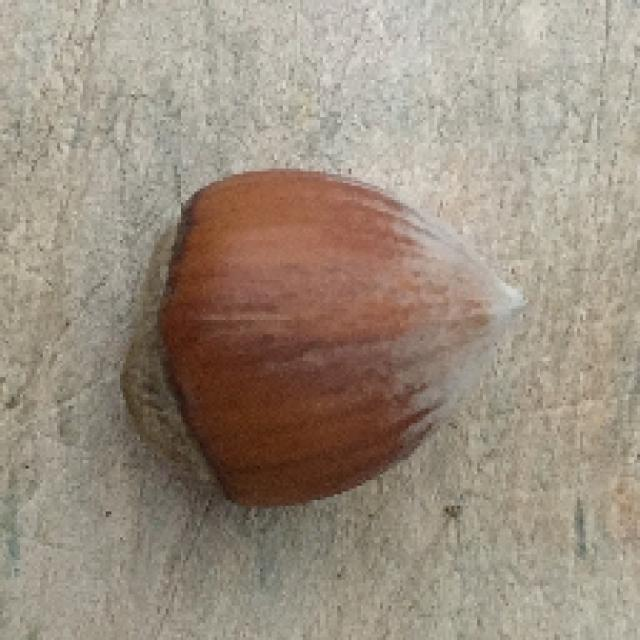QualityHazelnut: (115, 168, 535, 510)
